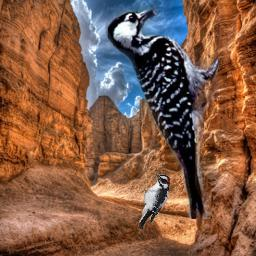Woodpecker: (105, 3, 218, 219), (137, 173, 170, 231)
